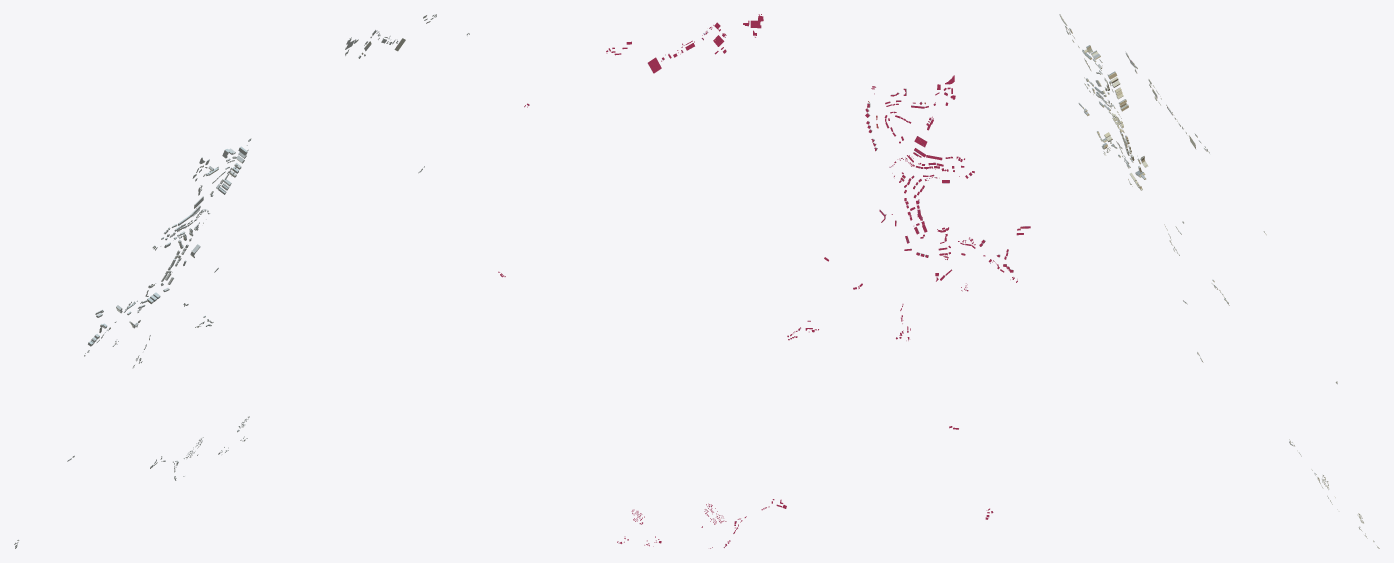
The picture shows the model from 3 angles, left to right: view 1: azimuth 30°, elevation 25°; view 2: azimuth 150°, elevation 25°; view 3: azimuth 270°, elevation 25°; orthographic projection. The views are drawn at different scales.
Visible parts, largest first — view 1: geometry_0; view 2: geometry_0; view 3: geometry_0.
Boxes of the visible parts, x1=… form: geometry_0: x1=14, y1=14, x2=469, y2=548; geometry_0: x1=498, y1=14, x2=1030, y2=548; geometry_0: x1=1059, y1=14, x2=1379, y2=548.
Bounding box in the file's own units: 4670 × 4605 × 2754.
